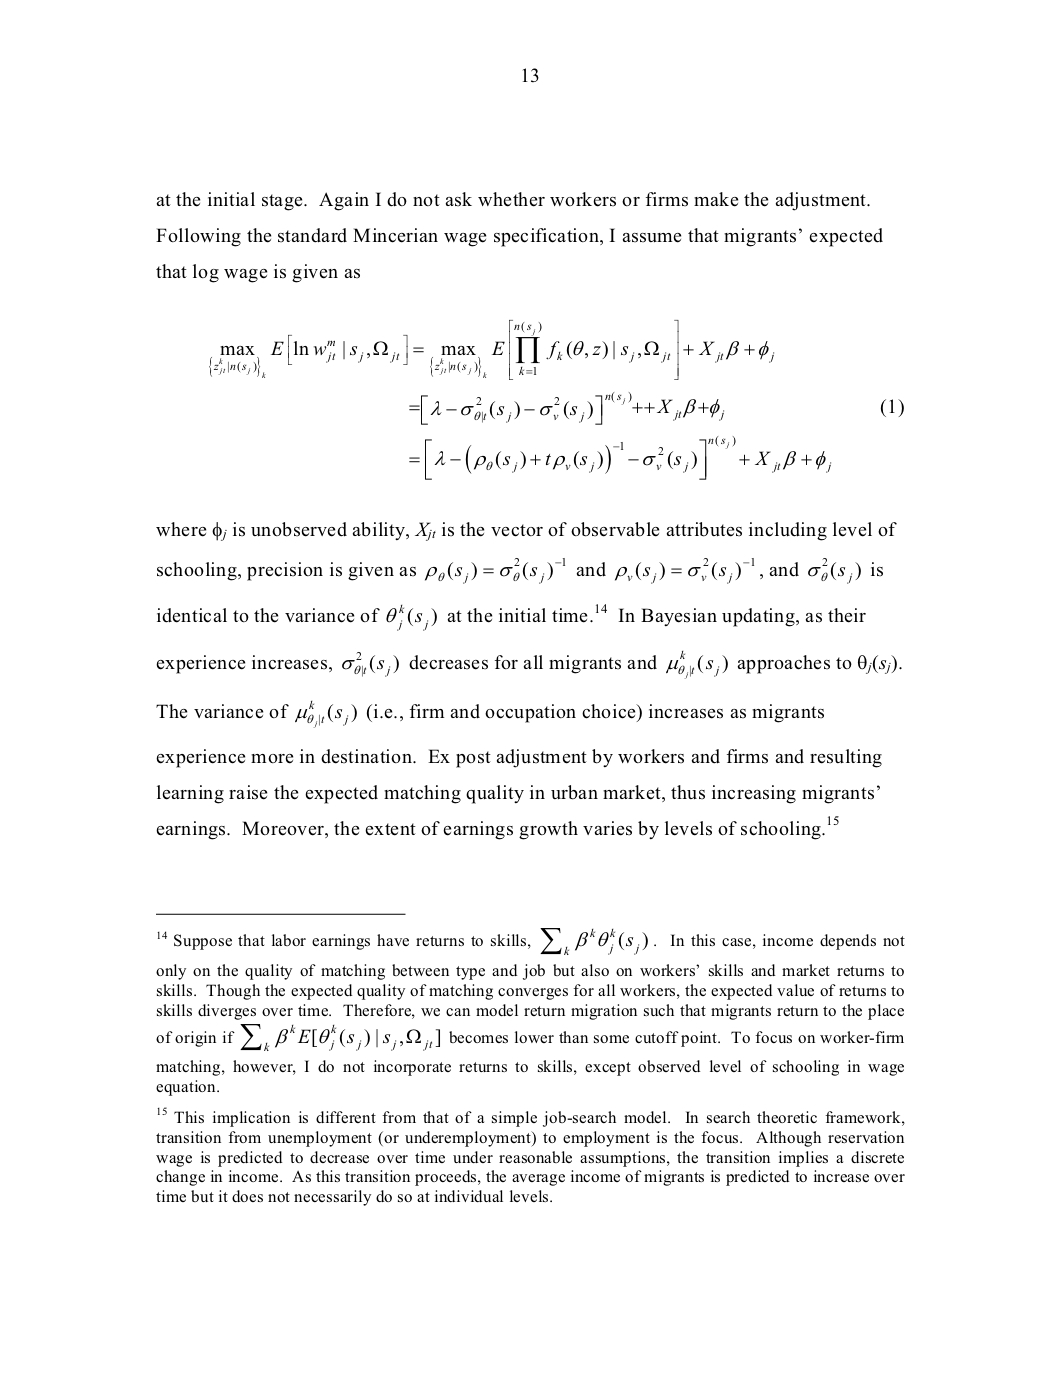figure: (156, 912, 405, 915)
formula: (210, 318, 773, 380), (409, 434, 831, 480), (409, 390, 903, 425)
